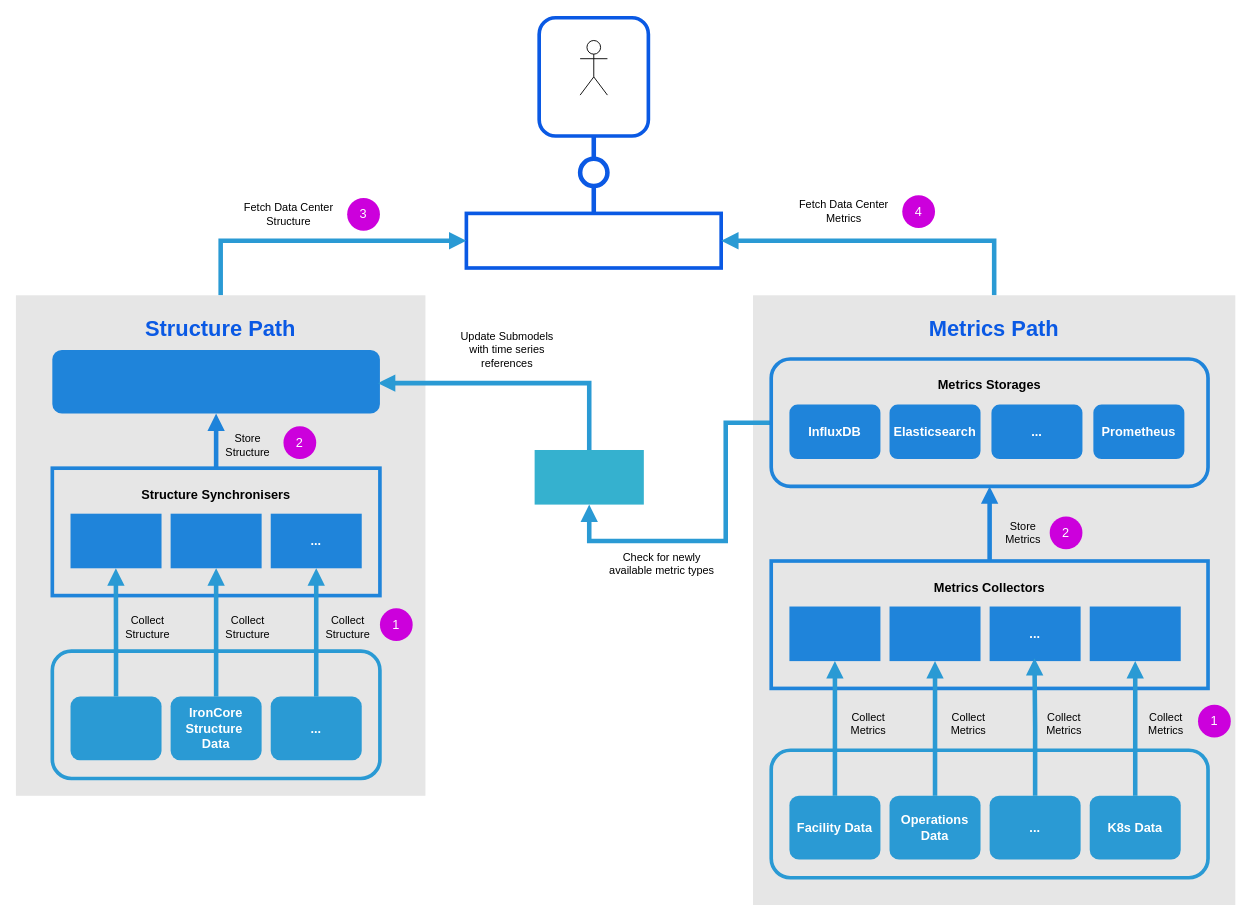
Some shapes in this 1250 by 920 pixel diagram are drawn without their labels. Each missing label, with the centre of its shape:
Asset Administration Shell Repository: pixel 215 381
CMDC Structure Data: pixel 115 728
CMDC Structure Sync Plugin: pixel 115 540
Facility Metrics Collector: pixel 834 633
Immersive Data Center Visualization: pixel 593 240
IronCore Structure Sync Plugin: pixel 215 540
K8s Data Source Collector: pixel 1134 633
Known Metrics Mapper: pixel 588 477
Operations Metrics Collector: pixel 934 633
Users: pixel 593 67
